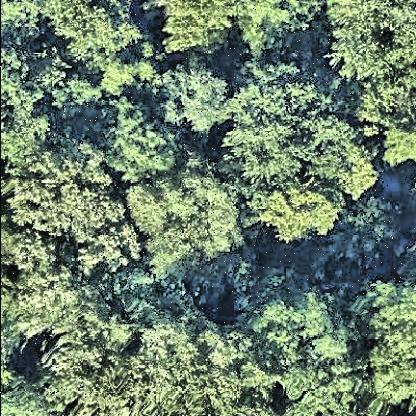tree-top: (323, 5, 416, 165), (131, 164, 245, 278), (146, 309, 257, 416), (14, 142, 128, 246), (226, 70, 318, 184), (259, 297, 361, 393), (44, 334, 146, 412), (16, 251, 92, 340), (369, 275, 416, 408), (51, 1, 151, 62), (258, 179, 344, 249), (109, 105, 181, 186), (1, 44, 47, 167), (162, 62, 234, 138), (160, 1, 239, 57), (238, 1, 322, 53), (37, 59, 95, 120), (97, 56, 151, 103), (1, 1, 48, 41)
